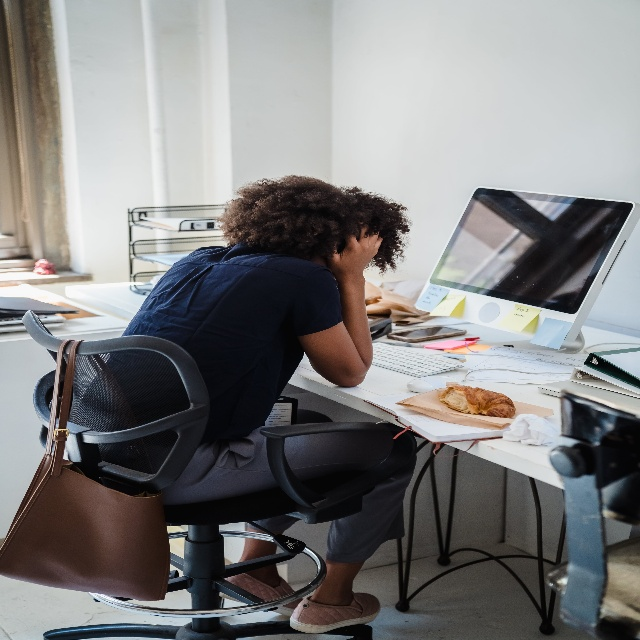Sin_guantes: (331, 219, 384, 279)
